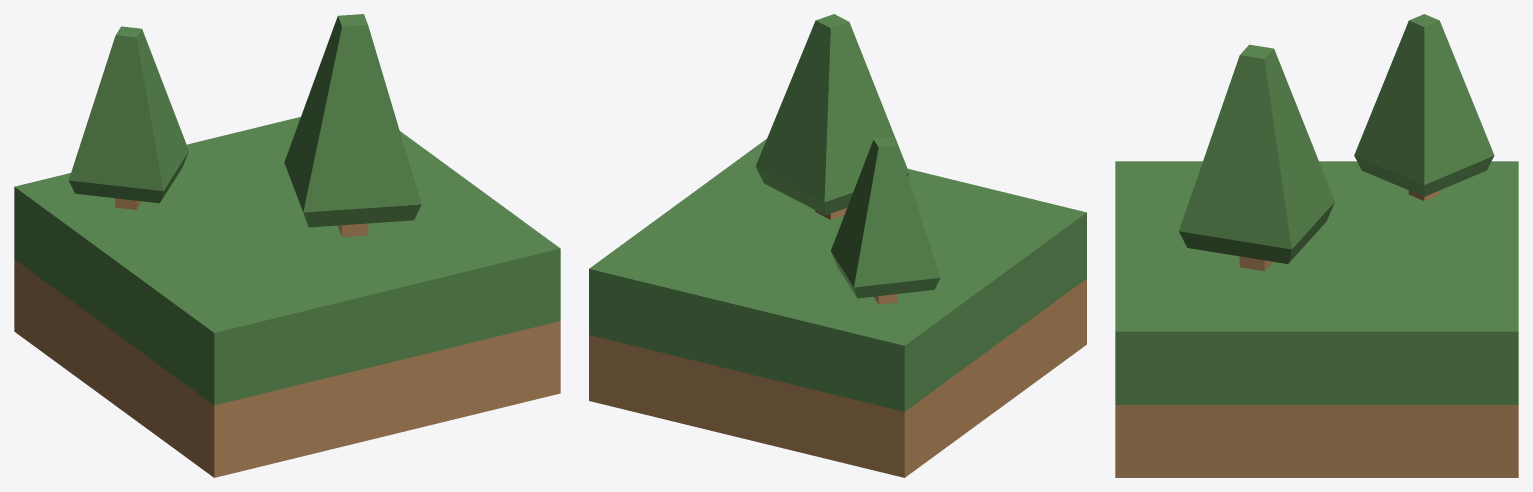
Rendered from tile_063.fbx.
The picture shows the model from 3 angles, left to right: view 1: azimuth 30°, elevation 25°; view 2: azimuth 150°, elevation 25°; view 3: azimuth 270°, elevation 25°; orthographic projection. The views are drawn at different scales.
Parts seen in each view (by area): view 1: tile_063, Component#2 (×2); view 2: tile_063, Component#2 (×2); view 3: tile_063, Component#2 (×2).
Part boxes in pixels (box(x1,y1,x2,y2)): tile_063: box(14, 117, 560, 477); Component#2 (×2): box(68, 14, 421, 236); tile_063: box(589, 139, 1086, 477); Component#2 (×2): box(755, 14, 940, 304); tile_063: box(1115, 161, 1518, 477); Component#2 (×2): box(1179, 14, 1494, 271).
Bounding box in the file's own units: 10 × 9.8 × 10.
